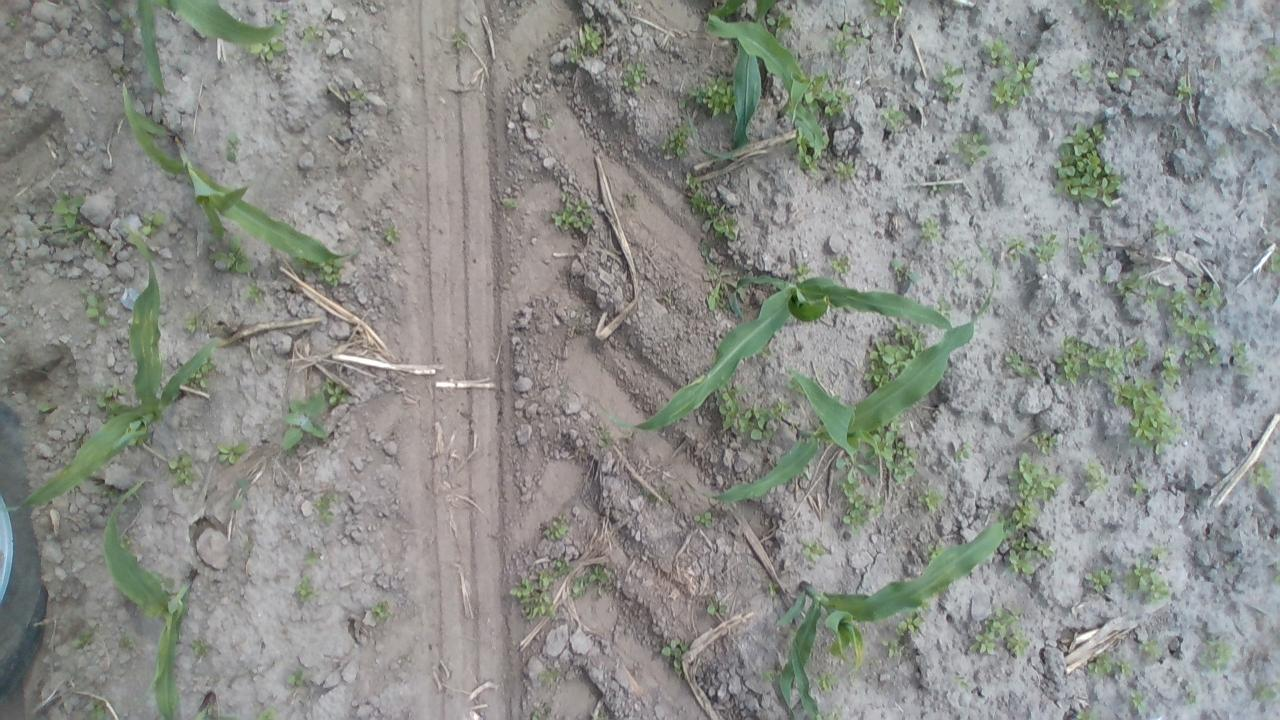Maize: (696, 272, 996, 505), (0, 234, 216, 520), (600, 274, 954, 432), (772, 518, 1006, 720), (117, 80, 348, 263), (101, 475, 199, 720), (700, 1, 825, 165), (136, 0, 284, 96), (706, 272, 739, 310), (188, 687, 220, 720)
Weeds: (1114, 267, 1222, 364), (1050, 121, 1124, 212), (1001, 458, 1055, 574), (864, 323, 924, 394), (1059, 336, 1150, 382), (1119, 376, 1181, 443), (714, 388, 781, 440), (966, 608, 1028, 658), (280, 392, 330, 452), (866, 430, 918, 480), (206, 234, 258, 275), (510, 574, 554, 619), (684, 80, 736, 118), (1119, 561, 1169, 600), (548, 194, 594, 234), (1097, 1, 1168, 25), (1007, 234, 1058, 264), (1070, 63, 1139, 84), (834, 448, 876, 482), (570, 564, 610, 598), (1198, 634, 1232, 672), (952, 133, 986, 168), (793, 69, 825, 103), (212, 436, 250, 464), (102, 0, 132, 33), (840, 495, 874, 524), (54, 193, 83, 226), (576, 22, 602, 57), (932, 62, 962, 92), (796, 131, 819, 170), (890, 260, 924, 286), (877, 105, 905, 136), (989, 78, 1020, 106), (66, 221, 102, 245), (660, 640, 686, 673), (1086, 654, 1126, 675), (665, 127, 692, 158), (710, 210, 737, 240), (1195, 280, 1222, 310), (622, 61, 646, 94), (164, 452, 192, 480), (1146, 213, 1178, 237), (1085, 566, 1115, 591), (768, 6, 791, 38), (86, 292, 109, 324), (192, 356, 213, 391), (248, 38, 281, 60), (799, 543, 828, 568), (1006, 352, 1030, 382), (687, 188, 713, 214), (544, 517, 569, 542), (1160, 357, 1182, 385), (1078, 228, 1102, 253), (294, 576, 314, 606), (1084, 465, 1108, 490), (1014, 59, 1036, 86), (284, 667, 311, 689), (1228, 341, 1248, 370), (96, 388, 120, 412), (223, 132, 241, 164), (916, 484, 941, 507), (984, 40, 1006, 66), (232, 476, 248, 511), (1248, 679, 1272, 702), (919, 217, 941, 242), (834, 34, 859, 56), (318, 260, 339, 286), (314, 490, 334, 517), (880, 639, 906, 659), (532, 670, 564, 686), (824, 92, 845, 116), (876, 0, 904, 18), (1184, 346, 1204, 371), (116, 629, 138, 651), (140, 216, 163, 237), (1030, 432, 1054, 452), (834, 158, 855, 180), (705, 595, 726, 617), (247, 279, 264, 306), (326, 382, 345, 406), (1262, 38, 1280, 63), (382, 222, 400, 246), (550, 556, 570, 577), (897, 615, 921, 632), (303, 548, 322, 568), (1036, 539, 1056, 557), (190, 638, 208, 658), (451, 30, 470, 48), (842, 479, 861, 497), (75, 630, 94, 648), (693, 512, 714, 528), (1254, 464, 1270, 485), (1176, 80, 1192, 100), (820, 673, 836, 693), (376, 598, 391, 618), (1130, 478, 1148, 494), (1264, 62, 1280, 80), (184, 316, 200, 334), (953, 672, 969, 690), (1152, 548, 1170, 564), (1138, 638, 1156, 654), (1210, 0, 1232, 13), (92, 697, 105, 719), (272, 8, 288, 25), (339, 86, 356, 102), (766, 581, 782, 598), (258, 705, 276, 720), (500, 196, 516, 212), (1076, 704, 1094, 718), (1269, 252, 1280, 274), (958, 447, 972, 463), (1184, 688, 1198, 704), (1130, 690, 1140, 712), (529, 709, 544, 720), (929, 184, 940, 198)
